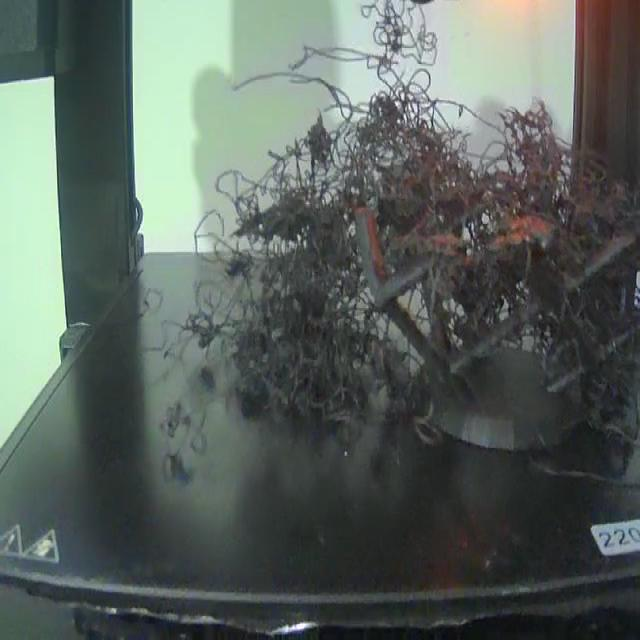spaghetti: (134, 0, 639, 520)
